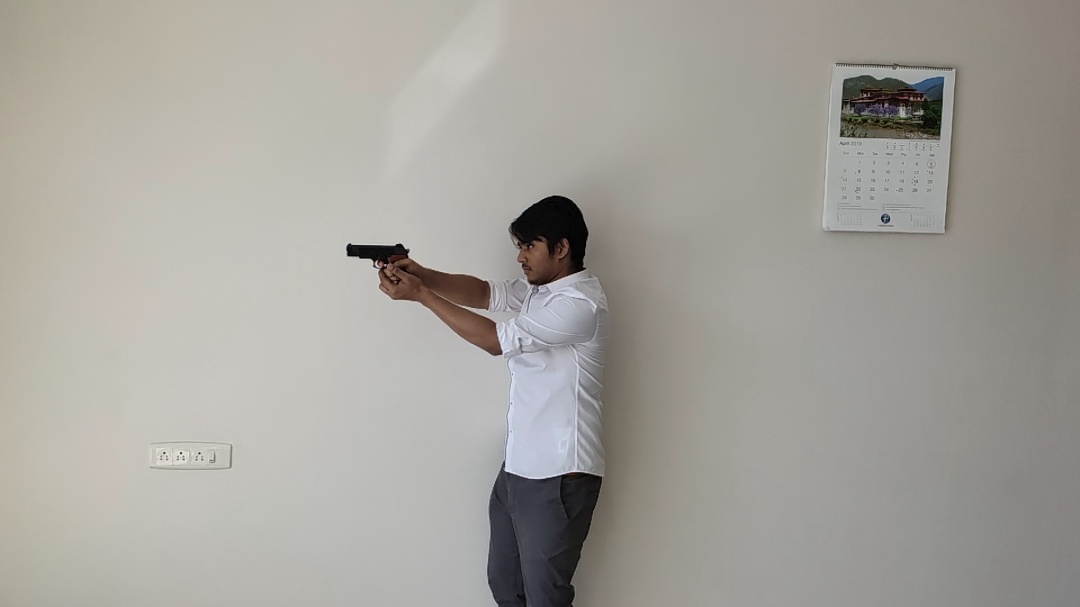gun: (346, 241, 410, 280)
